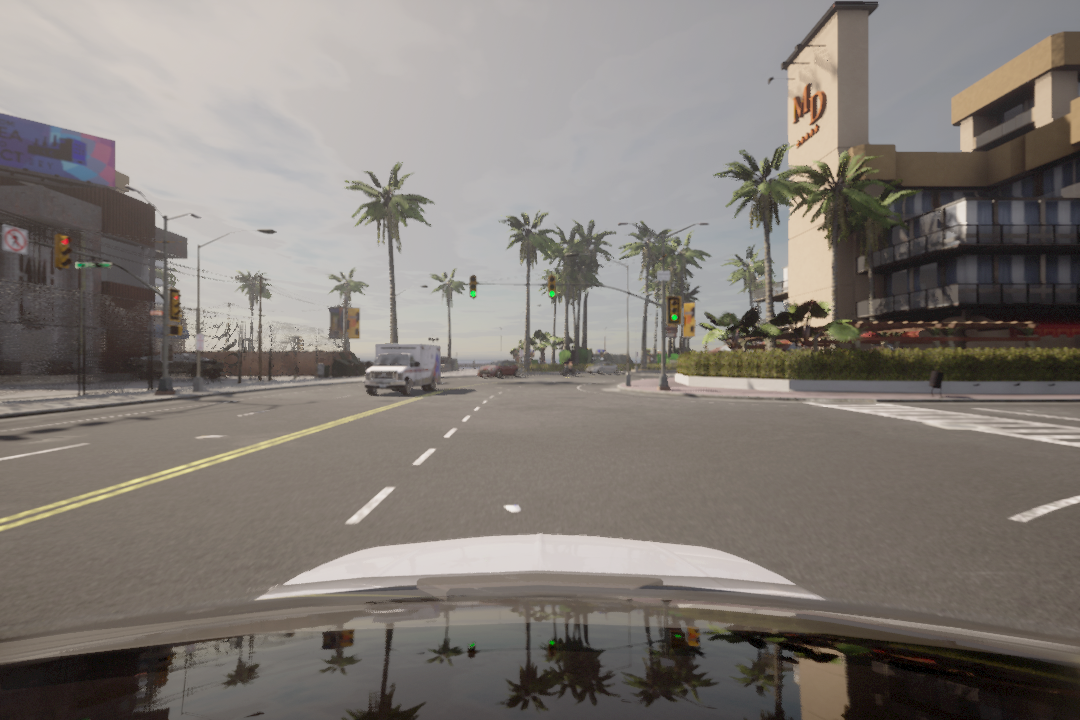TrafficLight: (56, 230, 71, 267), (666, 293, 681, 325), (169, 289, 183, 321), (548, 277, 559, 299), (469, 274, 478, 299)
